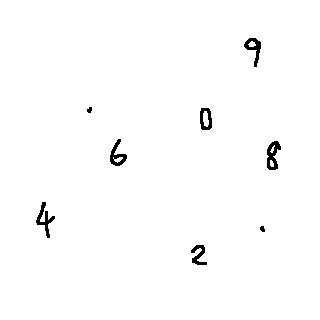.: (254, 220, 270, 240), (80, 103, 101, 117)
0: (195, 99, 218, 137)
2: (182, 241, 214, 276)
4: (26, 194, 72, 245)
6: (106, 135, 133, 174)
8: (261, 134, 288, 179)
9: (239, 31, 270, 75)
